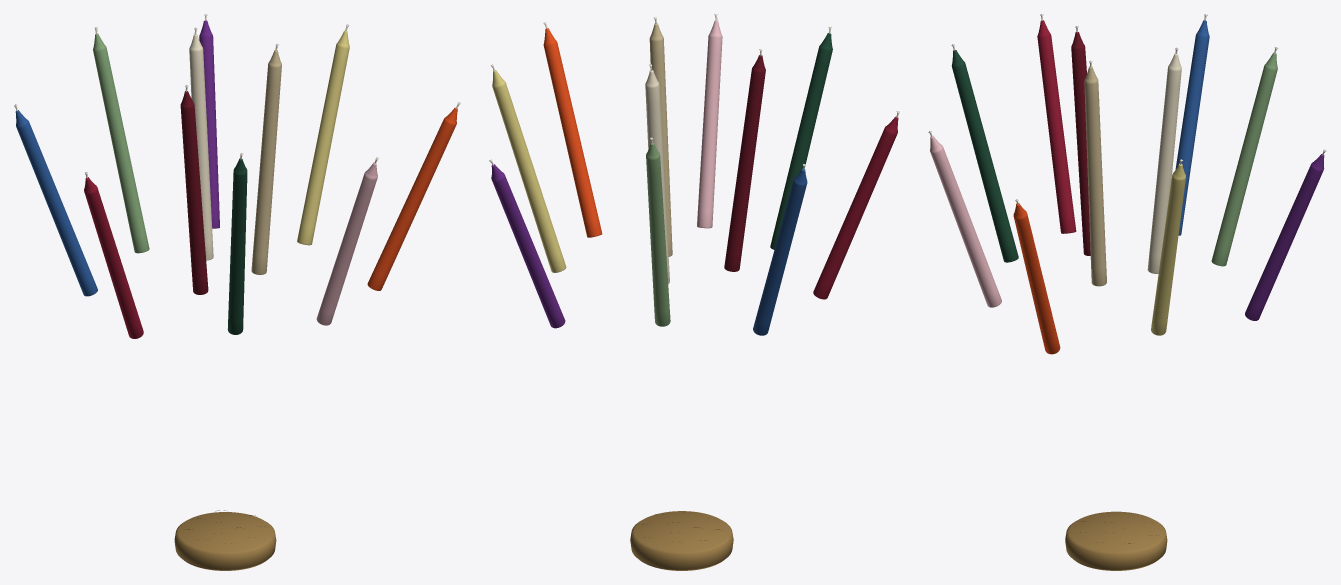
3 renders of one model, left to right at view 1: azimuth 30°, elevation 25°; view 2: azimuth 150°, elevation 25°; view 3: azimuth 270°, elevation 25°, orthographic.
Parts seen in each view (by area): view 1: holder, candle10, candle6, candle4, candle9, candle3, candle7, candle1, candle8, candle2, candle0, candle5; view 2: holder, candle9, candle3, candle4, candle2, candle0, candle6, candle5, candle1, candle7, candle10, candle8; view 3: holder, candle10, candle6, candle1, candle0, candle8, candle2, candle5, candle4, candle7, candle9, candle3.
Part boxes in pixels (left/top/right/bottom): holder: left=174, top=512, right=276, bottom=570; candle10: left=251, top=44, right=281, bottom=274; candle6: left=93, top=27, right=149, bottom=253; candle4: left=297, top=24, right=349, bottom=245; candle9: left=180, top=85, right=208, bottom=294; candle3: left=367, top=102, right=460, bottom=290; candle7: left=14, top=104, right=97, bottom=296; candle1: left=227, top=153, right=247, bottom=334; candle8: left=189, top=27, right=213, bottom=260; candle2: left=316, top=157, right=378, bottom=325; candle0: left=84, top=172, right=143, bottom=338; candle5: left=199, top=14, right=219, bottom=228; holder: left=630, top=511, right=733, bottom=570; candle9: left=724, top=49, right=765, bottom=271; candle3: left=543, top=22, right=602, bottom=237; candle4: left=490, top=64, right=566, bottom=272; candle2: left=697, top=14, right=722, bottom=228; candle0: left=813, top=111, right=899, bottom=299; candle6: left=646, top=137, right=670, bottom=326; candle5: left=489, top=159, right=565, bottom=328; candle1: left=770, top=27, right=832, bottom=249; candle7: left=753, top=164, right=807, bottom=335; candle10: left=649, top=17, right=672, bottom=256; candle8: left=645, top=64, right=669, bottom=283; holder: left=1065, top=511, right=1167, bottom=570; candle10: left=1084, top=60, right=1106, bottom=286; candle6: left=1211, top=47, right=1278, bottom=266; candle1: left=951, top=44, right=1018, bottom=262; candle0: left=1037, top=14, right=1076, bottom=233; candle8: left=1147, top=47, right=1181, bottom=273; candle2: left=928, top=131, right=1001, bottom=307; candle5: left=1245, top=149, right=1326, bottom=320; candle4: left=1151, top=159, right=1185, bottom=335; candle7: left=1175, top=14, right=1209, bottom=235; candle9: left=1071, top=26, right=1090, bottom=255; candle3: left=1013, top=199, right=1060, bottom=354.
Bounding box in the file's own units: 0.5902 × 0.7858 × 0.5577.
